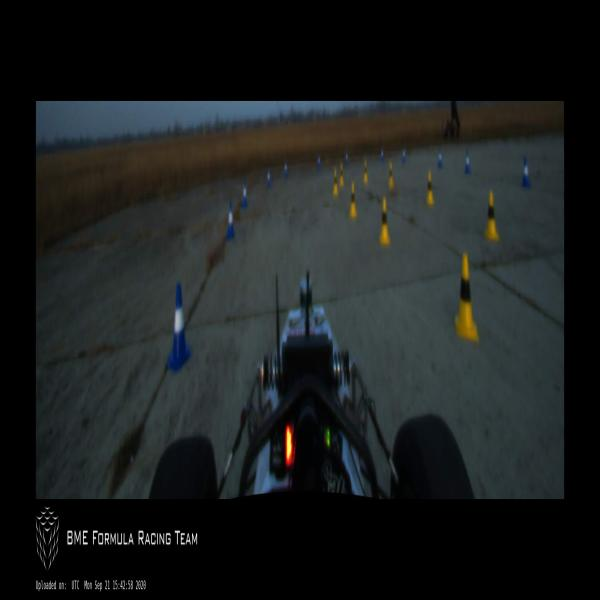blue_cone: (166, 281, 192, 374), (225, 197, 236, 241), (522, 156, 531, 189), (241, 182, 247, 208), (464, 148, 470, 174), (266, 166, 272, 189), (438, 148, 443, 168), (284, 159, 288, 179), (317, 153, 321, 173), (344, 149, 348, 167), (380, 146, 384, 164), (402, 146, 406, 163)
yellow_cone: (456, 255, 479, 344), (485, 190, 500, 242), (380, 199, 390, 245), (348, 185, 357, 219), (427, 172, 434, 206), (332, 170, 338, 196), (388, 163, 393, 189), (339, 163, 344, 186), (363, 160, 368, 183)
